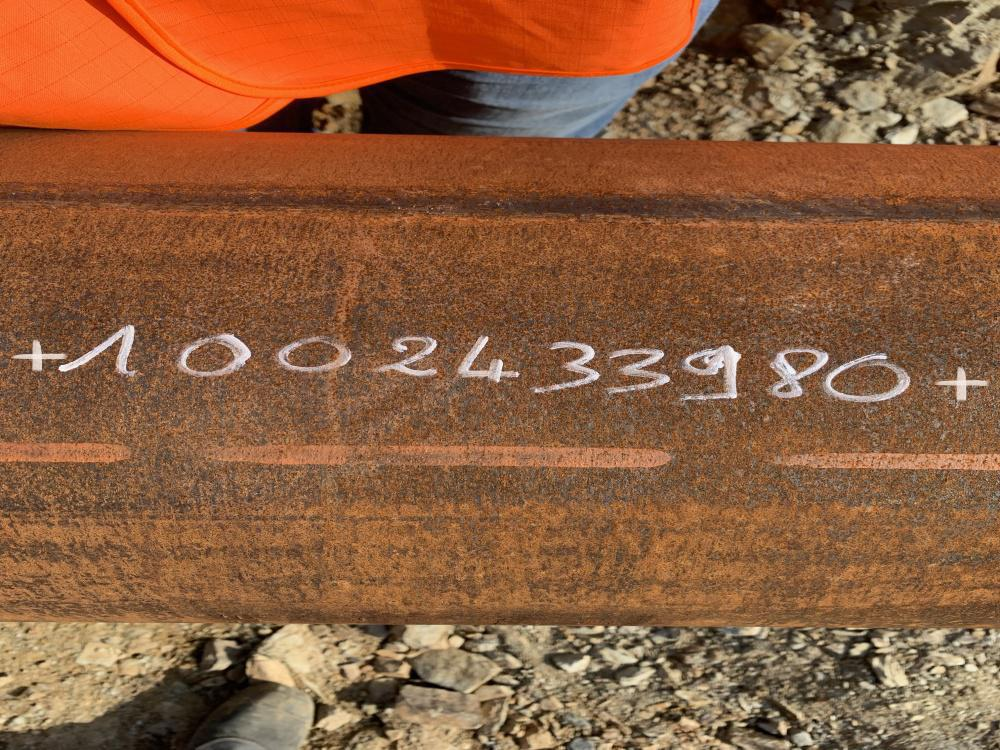+: (7, 334, 64, 372), (935, 366, 986, 400)
0: (824, 345, 911, 410), (274, 335, 355, 376), (177, 332, 249, 377)
1: (67, 322, 139, 377)
2: (380, 330, 442, 378)
3: (604, 342, 674, 398), (536, 338, 596, 396)
4: (456, 330, 520, 387)
8: (768, 344, 822, 402)
9: (674, 342, 744, 404)
